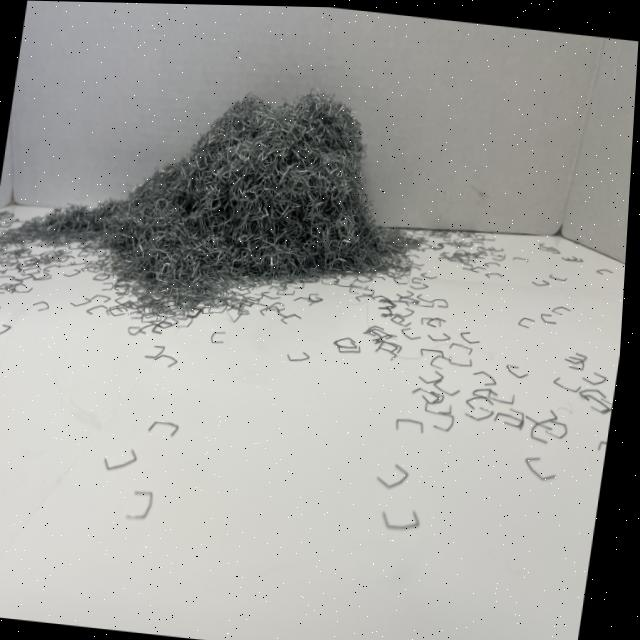staples: (20, 56, 436, 329)
